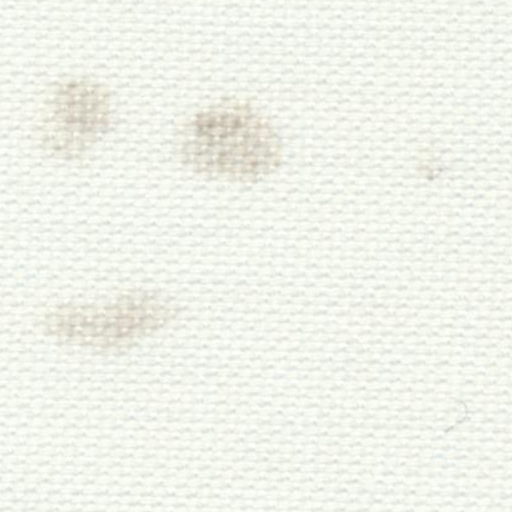WuZi: (36, 263, 190, 359), (176, 82, 296, 198), (32, 68, 128, 170), (405, 142, 456, 192)
